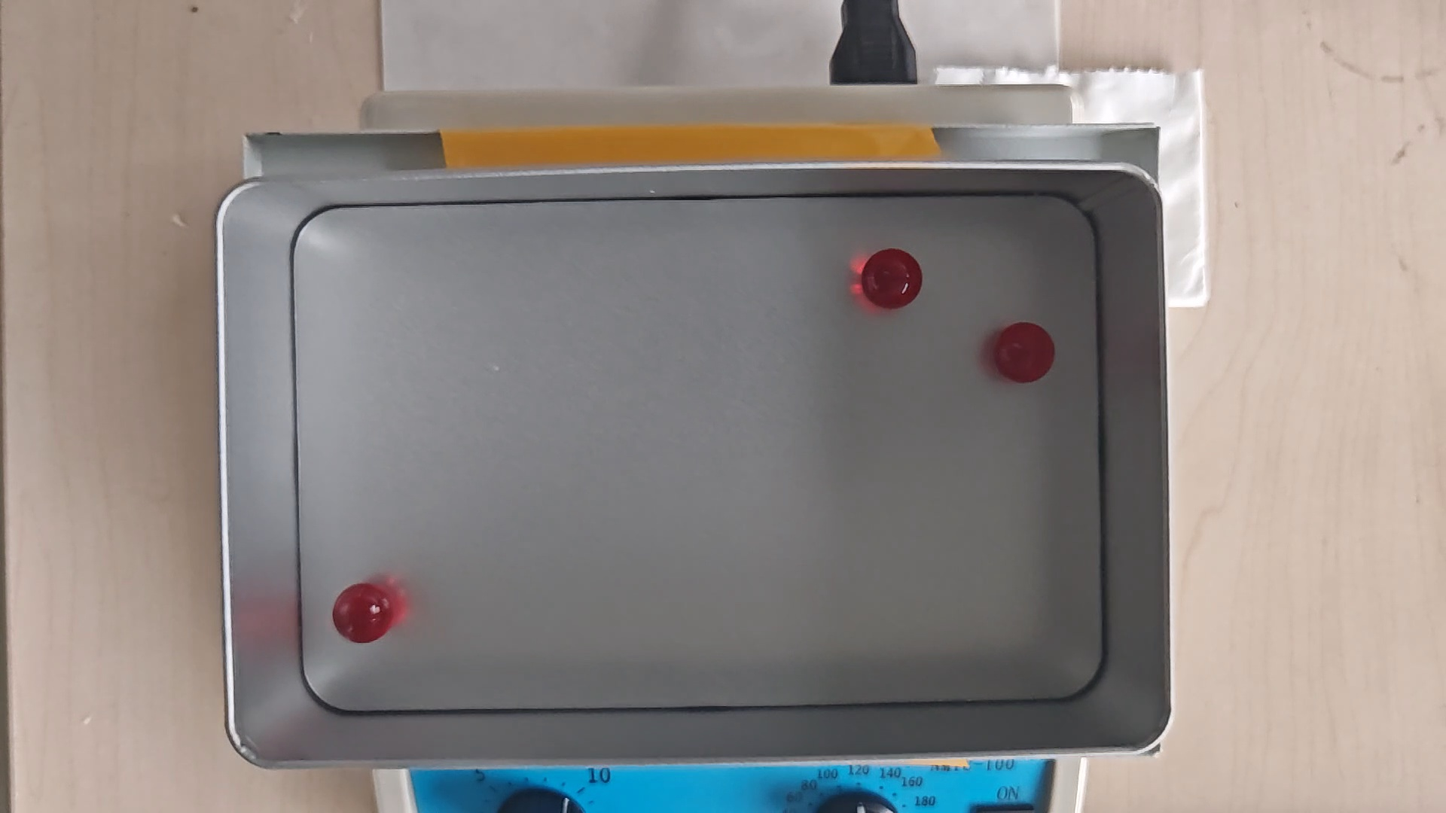ball: (993, 322, 1055, 386), (863, 248, 923, 309), (334, 583, 393, 644)
container: (296, 195, 1101, 709)
